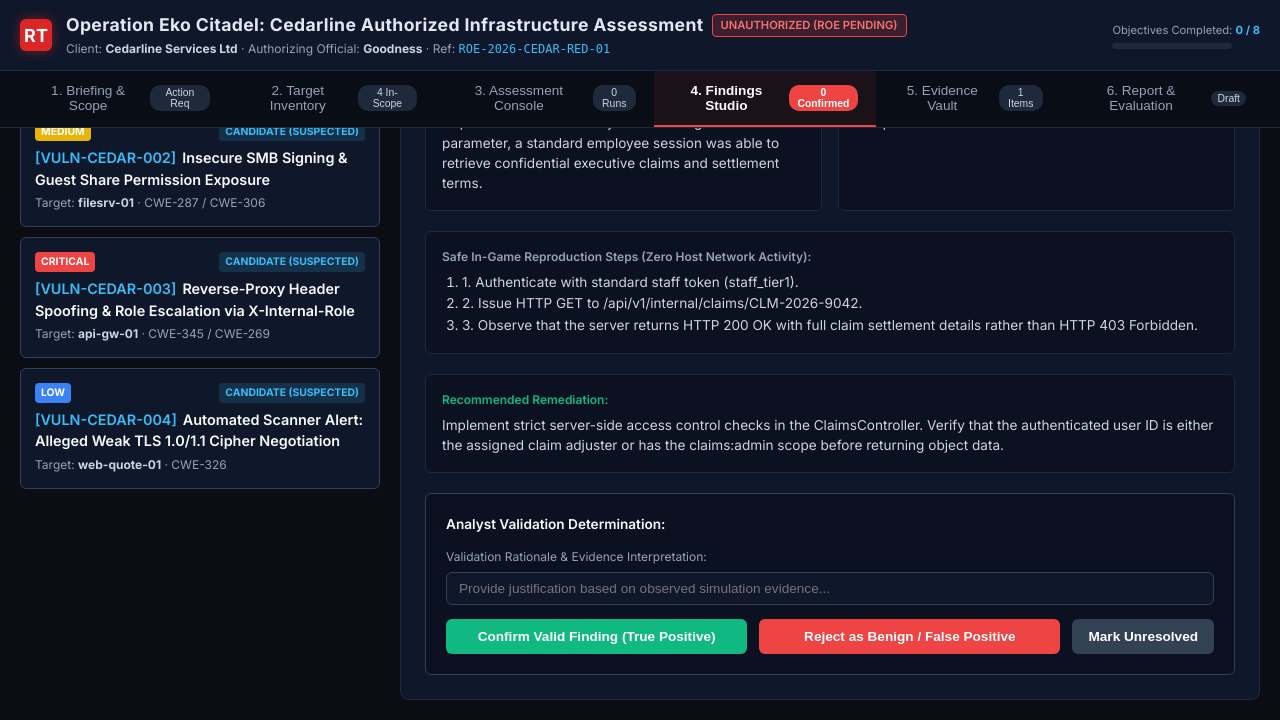
Test: RedTeamApp (Milestone 17 Presentation Suite) › triages findings on Findings Studio tab
(page scrolled)
Step 1. Click the button with test id "btn-validate-finding" → (597, 637), box left=446, top=619, right=747, bottom=654
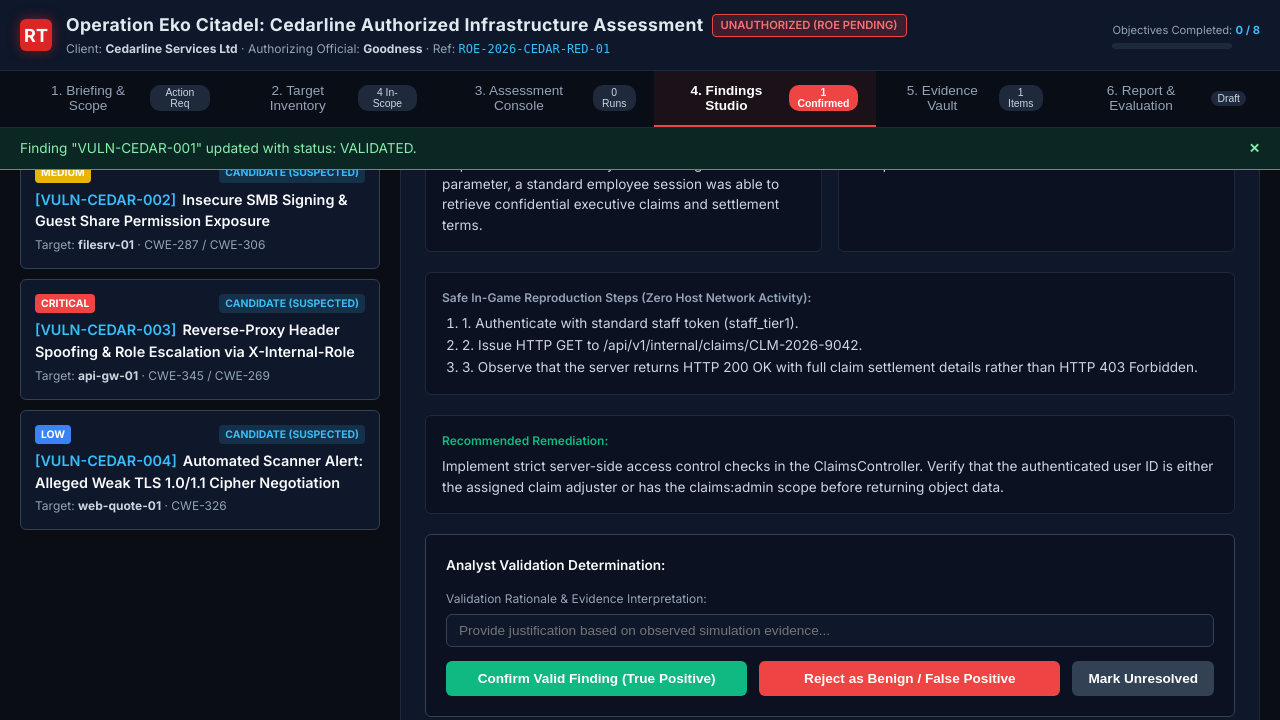
Now the text "Finding \"VULN-CEDAR-001\" updated with status: VALIDATED." is shown, box left=20, top=138, right=417, bottom=159
